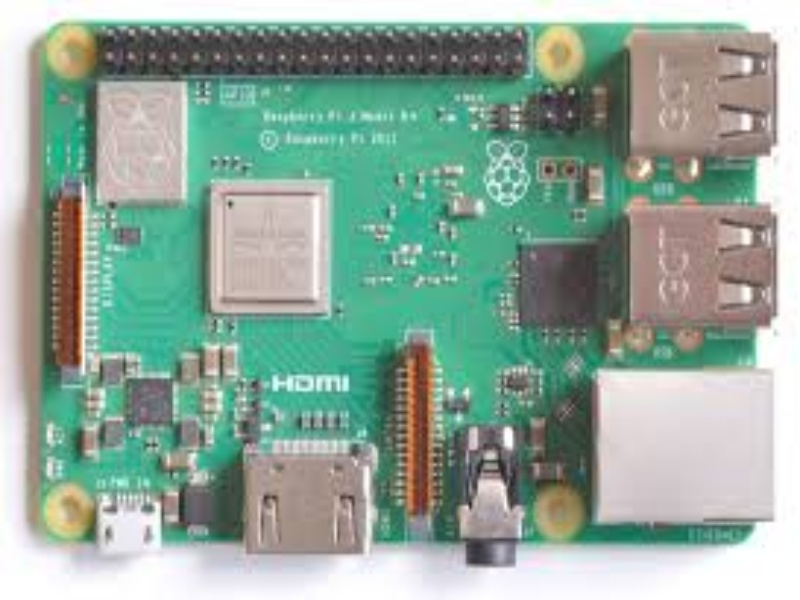raspberrypi: (26, 15, 785, 552)
